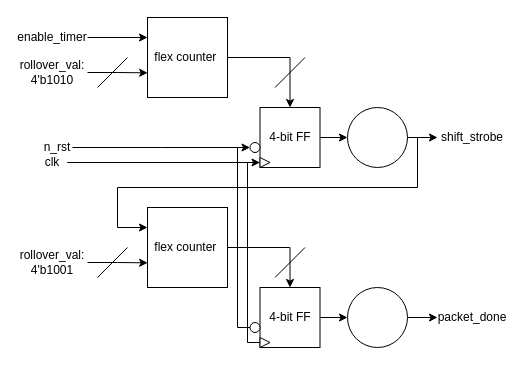
This 524x365 diagram has some shape labels left out. The centre of each missing label's shape, as x and y in pixels:
"comparator if count_out == 10" goes at [377,137].
"comparator if count_out == 9" goes at [377,317].
